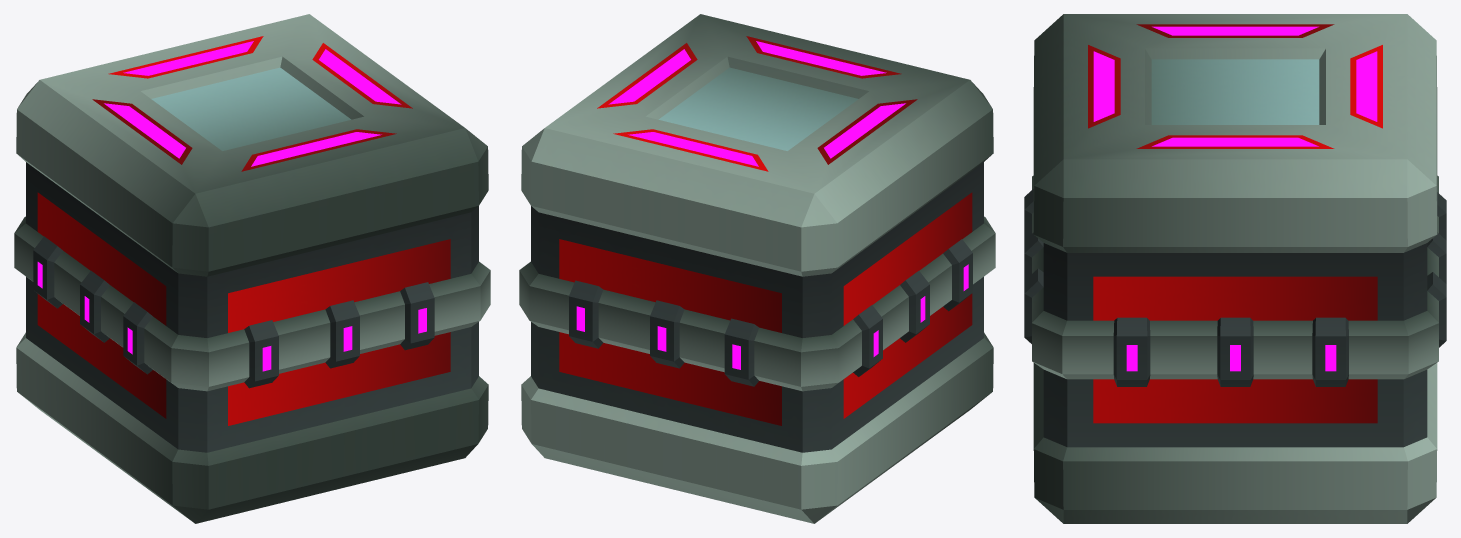
3 renders of one model, left to right at view 1: azimuth 30°, elevation 25°; view 2: azimuth 150°, elevation 25°; view 3: azimuth 270°, elevation 25°, orthographic. The views are drawn at different scales.
Visible parts, largest first — view 1: box.006; view 2: box.006; view 3: box.006.
Boxes of the visible parts, <box> form: box.006: <box>14,14,490,523</box>; box.006: <box>519,14,995,523</box>; box.006: <box>1024,14,1446,523</box>.
Size of the model in its own units: 117 by 112 by 117.
